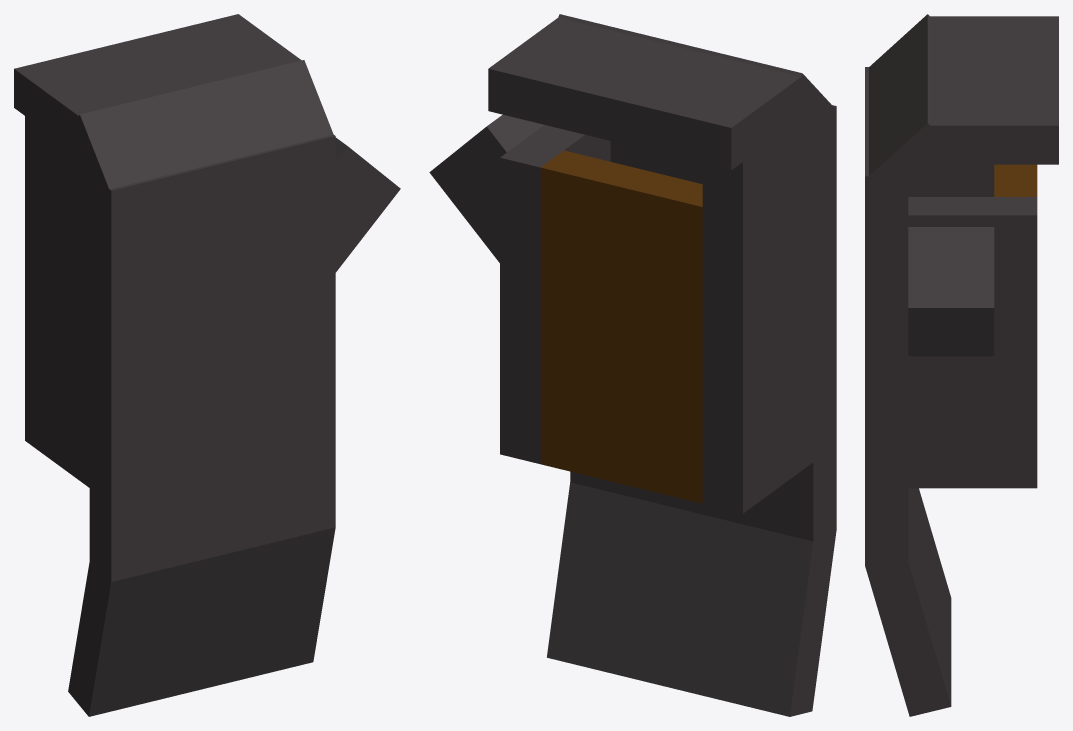
File: ArmGuard.fbx
3 views of the same model, side by side, from view 1: azimuth 30°, elevation 25°; view 2: azimuth 150°, elevation 25°; view 3: azimuth 270°, elevation 25° (orthographic). The views are drawn at different scales.
Parts seen in each view (by area): view 1: Cube.001; view 2: Cube.001, Cube.007; view 3: Cube.001, Cube.007.
Part boxes in pixels (x1=…): Cube.001: x1=14, y1=14, x2=400, y2=716; Cube.001: x1=429, y1=14, x2=836, y2=716; Cube.007: x1=540, y1=150, x2=702, y2=503; Cube.001: x1=865, y1=14, x2=1058, y2=716; Cube.007: x1=994, y1=164, x2=1037, y2=196.
Size of the model in its own units: 99.86 by 183 by 54.01.
